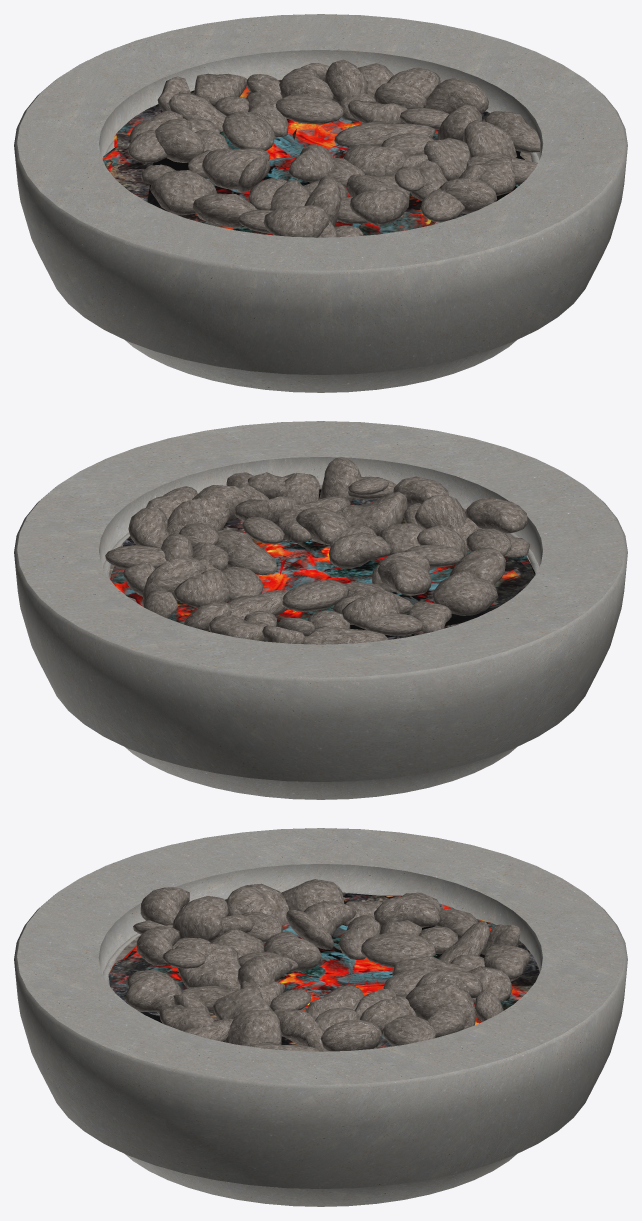
File: Firepit.fbx
3 views of the same model, one above another, from view 1: azimuth 30°, elevation 25°; view 2: azimuth 150°, elevation 25°; view 3: azimuth 270°, elevation 25° (orthographic).
Parts seen in each view (by area): view 1: Cube.013, Cube.000, Cylinder.001; view 2: Cube.013, Cube.000, Cylinder.001; view 3: Cube.013, Cube.000, Cylinder.001.
Boxes of the visible parts, x1,y1,x2,y2 form: Cube.013: [14, 14, 627, 392]; Cube.000: [128, 59, 540, 237]; Cylinder.001: [102, 80, 524, 235]; Cube.013: [14, 421, 627, 799]; Cube.000: [105, 457, 531, 644]; Cylinder.001: [110, 489, 535, 641]; Cube.013: [14, 828, 627, 1206]; Cube.000: [109, 879, 529, 1051]; Cylinder.001: [108, 892, 539, 1048].
Size of the model in its own units: 165 by 55.32 by 165.
3 materials, 3 textured.
